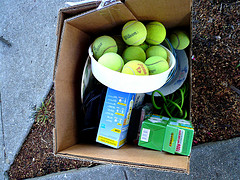tennis ball: (122, 20, 148, 46), (92, 34, 118, 60), (97, 52, 125, 73), (144, 55, 169, 77), (146, 20, 168, 45), (122, 60, 149, 77), (122, 45, 147, 61), (170, 32, 190, 51)
